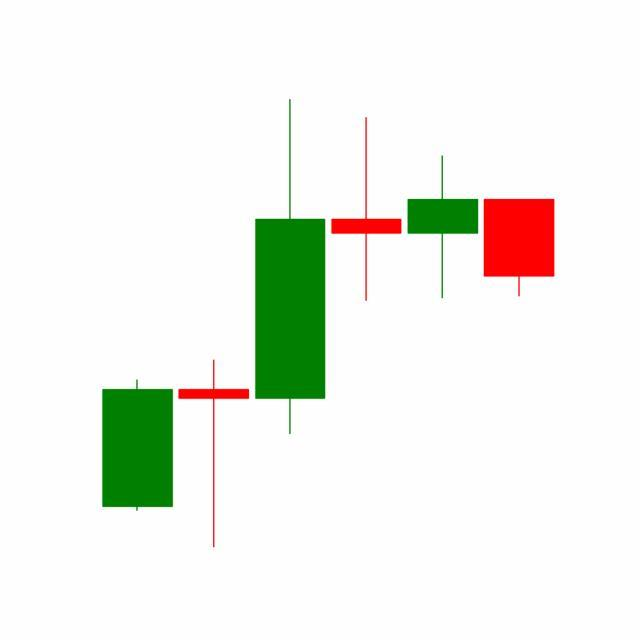Spinning Top: (404, 154, 482, 300)
